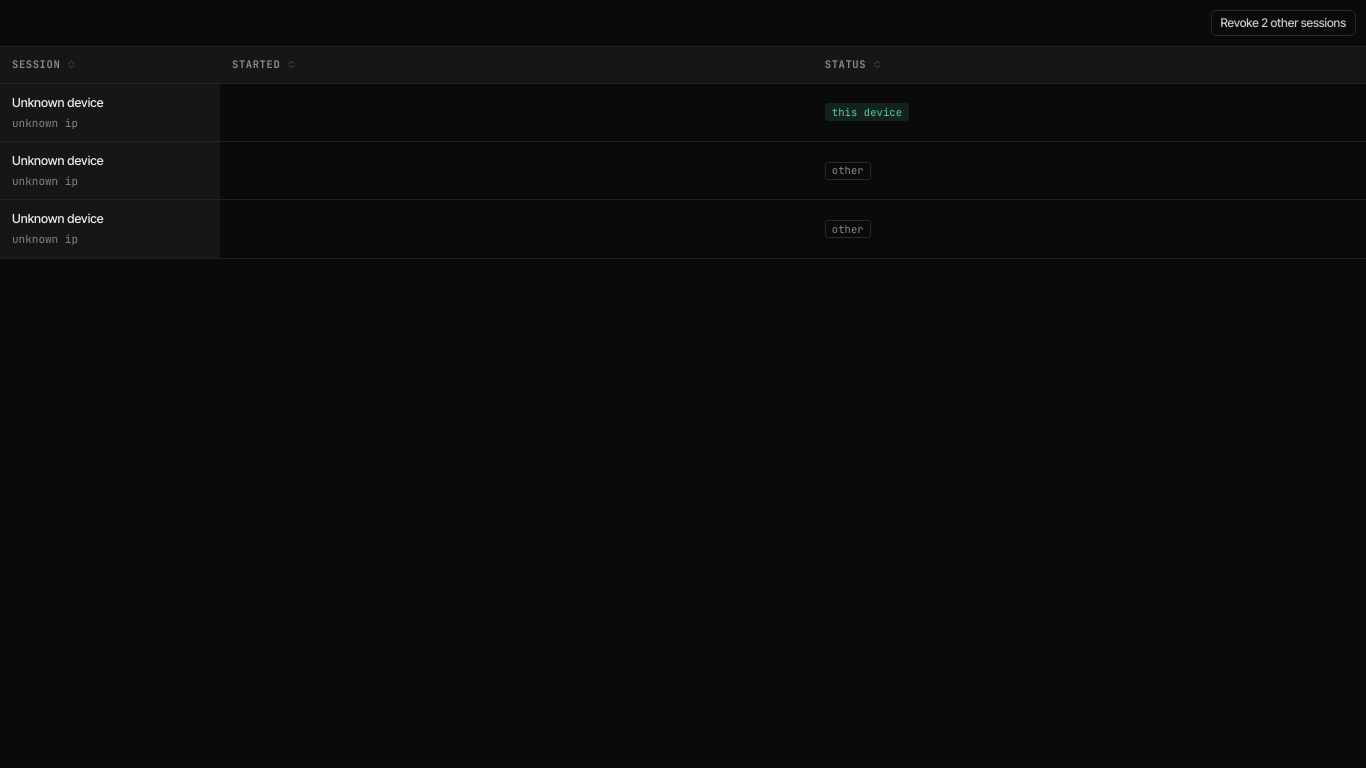
Test: SessionsList revoke others › asks first and names the API key impact
Click the button "Revoke 2 other sessions" at coordinates (1283, 23), box [1210, 10, 1356, 36]
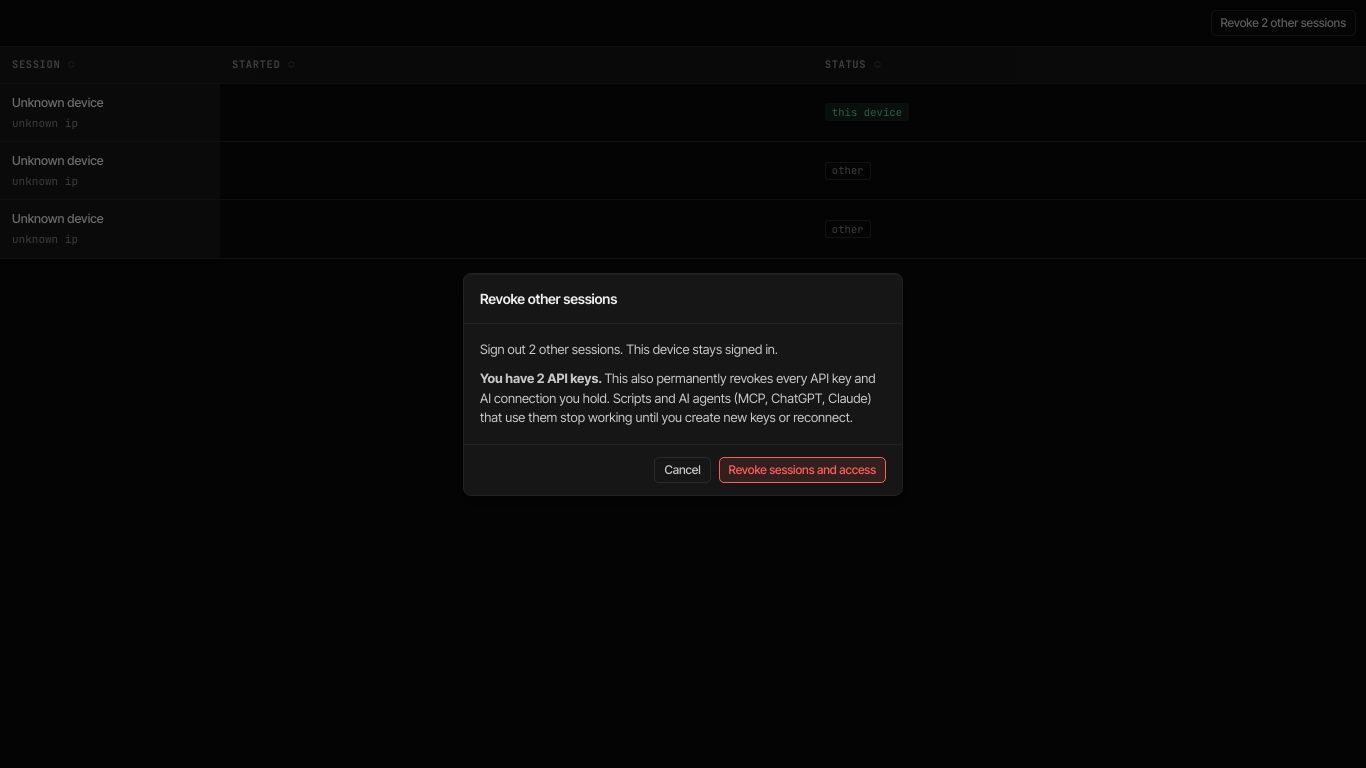
Expected: the dialog "Revoke other sessions" shows "You have 2 API keys.", [480, 370, 602, 386]
Expected: the dialog "Revoke other sessions" shows "permanently revokes every API key", [480, 370, 876, 425]
